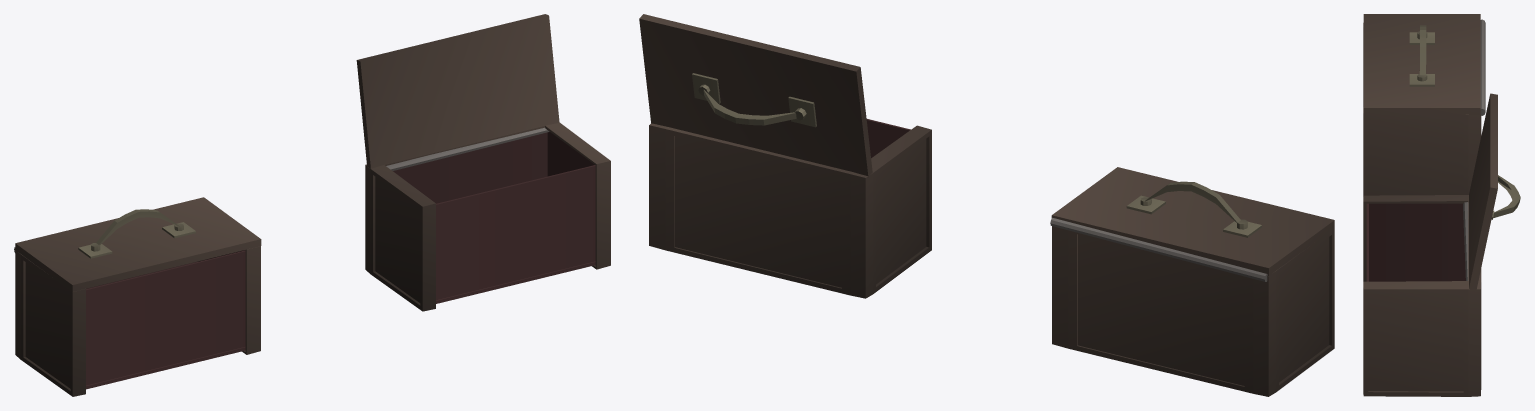
Rendered from Boxes_Village.fbx.
3 views of the same model, side by side, from view 1: azimuth 30°, elevation 25°; view 2: azimuth 150°, elevation 25°; view 3: azimuth 270°, elevation 25° (orthographic). The views are drawn at different scales.
Visible parts, largest first — view 1: Box Opened, Box Closed; view 2: Box Opened, Box Closed; view 3: Box Opened, Box Closed.
Boxes of the visible parts, x1,y1,x2,y2 form: Box Opened: [356, 14, 610, 311]; Box Closed: [14, 197, 261, 396]; Box Opened: [639, 14, 931, 298]; Box Closed: [1050, 167, 1334, 396]; Box Opened: [1363, 93, 1520, 396]; Box Closed: [1363, 14, 1485, 196].
Bounding box in the file's own units: 686 × 250 × 170.
1 material, 1 textured.
